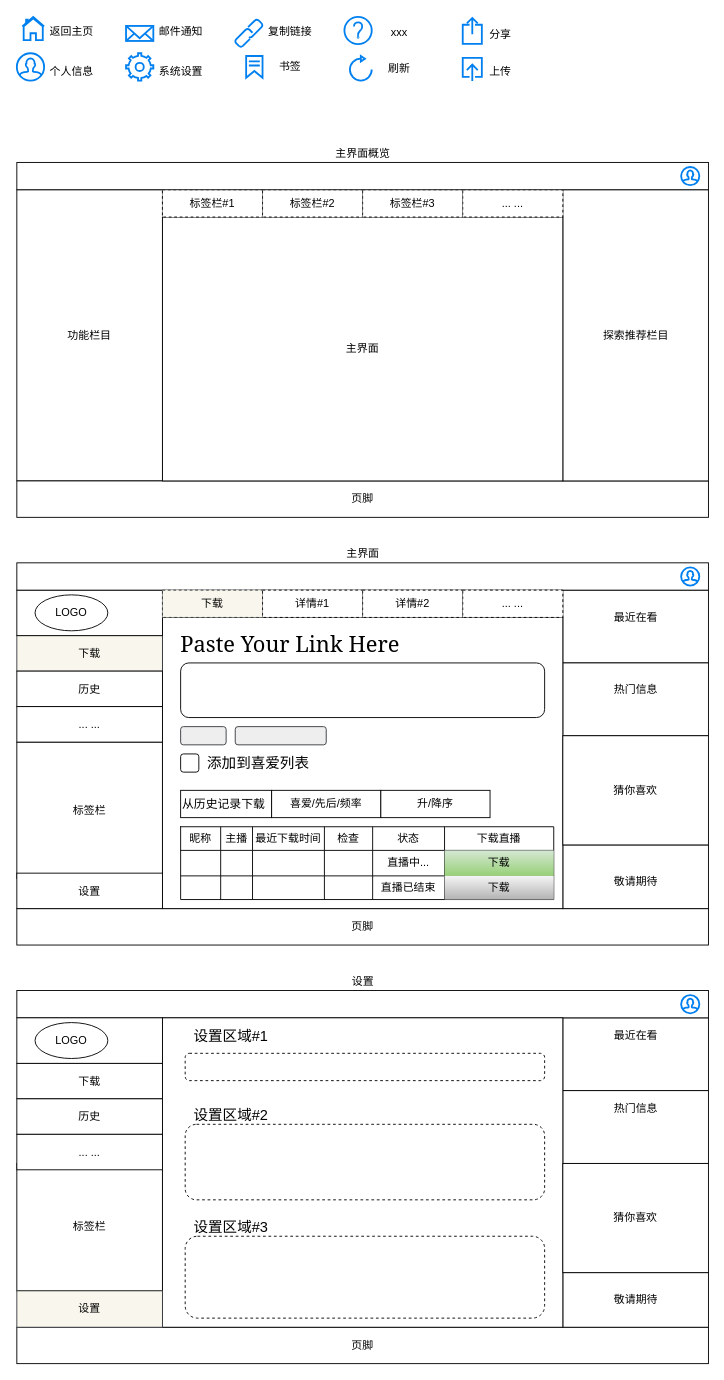
The diagram is 724 pixels wide and 1380 high, and some of its shapes have lost their labels. The shapes that lost their labels are listed below. From the top down, each one's centre as x and y in pixels, then its label:
At point 362,690: "输入下载链接...".
At point 203,735: "提交".
At point 280,735: "从剪贴板读取".
